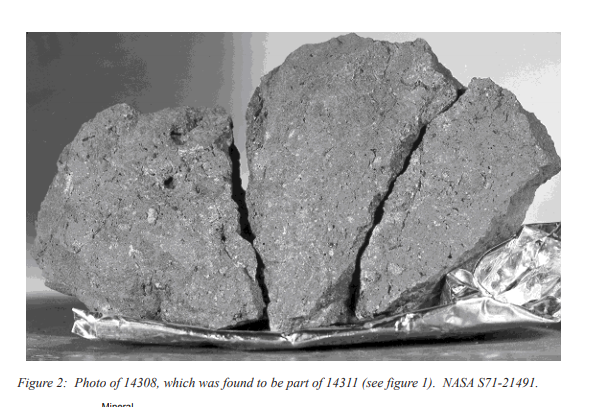Breccia: (244, 46, 554, 319), (44, 156, 501, 322), (30, 78, 265, 341)
